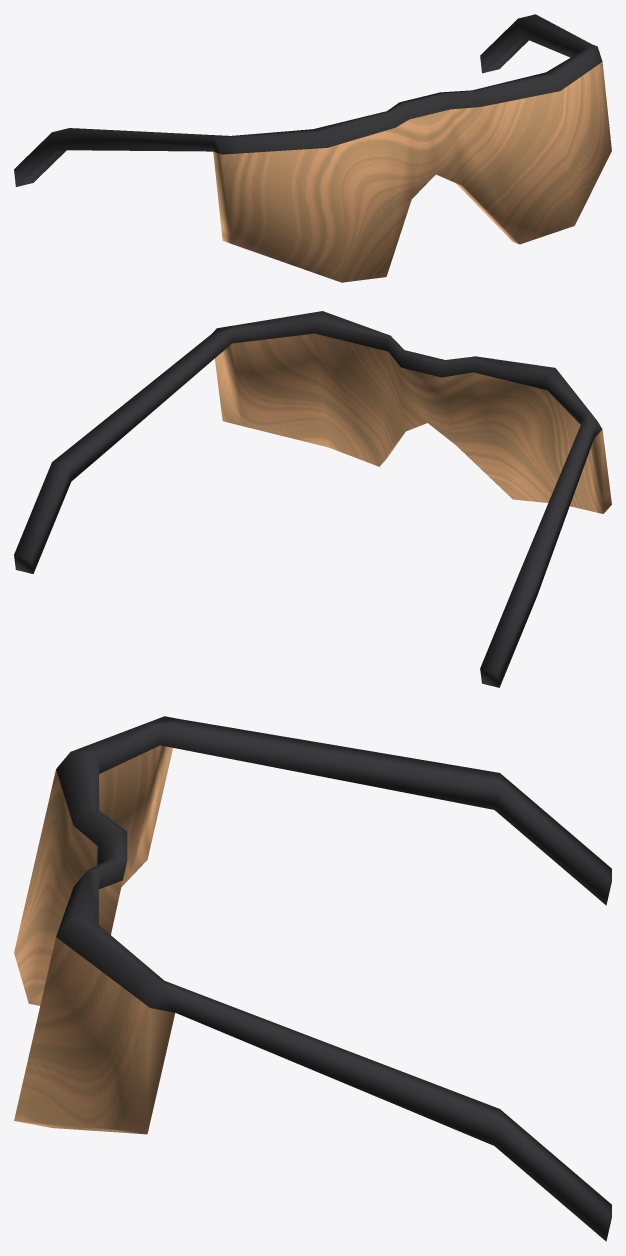
File: Oculos.fbx
The picture shows the model from 3 angles, top to bottom: view 1: azimuth 30°, elevation 25°; view 2: azimuth 150°, elevation 25°; view 3: azimuth 270°, elevation 25°; orthographic projection. The views are drawn at different scales.
Parts seen in each view (by area): view 1: Oculos; view 2: Oculos; view 3: Oculos.
Boxes of the visible parts, x1=… form: Oculos: x1=14, y1=14, x2=611, y2=282; Oculos: x1=14, y1=311, x2=611, y2=687; Oculos: x1=14, y1=716, x2=611, y2=1241.
Bounding box in the file's own units: 183 × 56.63 × 133.
